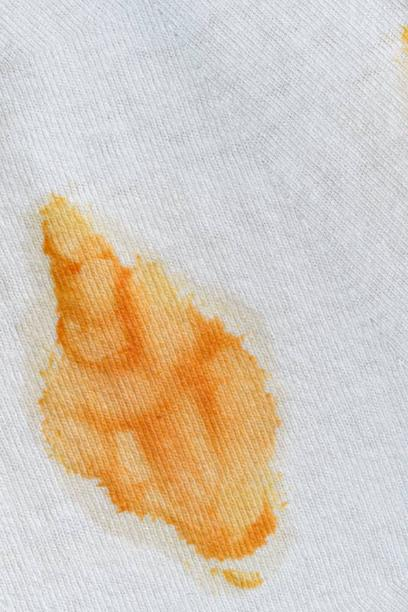stain: (23, 182, 295, 597)
